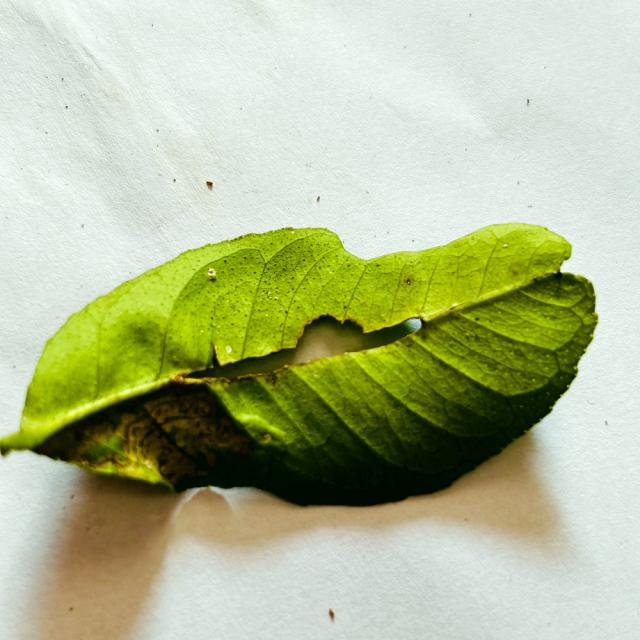Deficiency Leaf: (212, 316, 413, 377), (333, 211, 497, 259), (178, 487, 279, 521), (561, 246, 601, 276)
Lemon: (0, 224, 597, 504)
